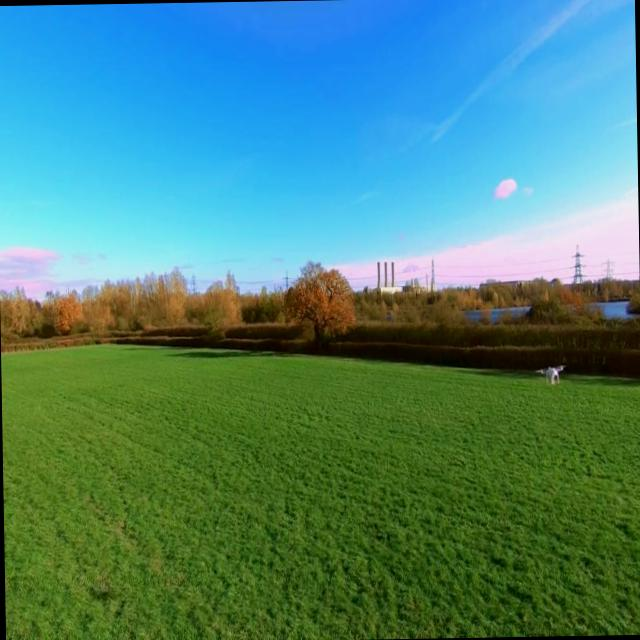drone: (536, 360, 564, 388)
